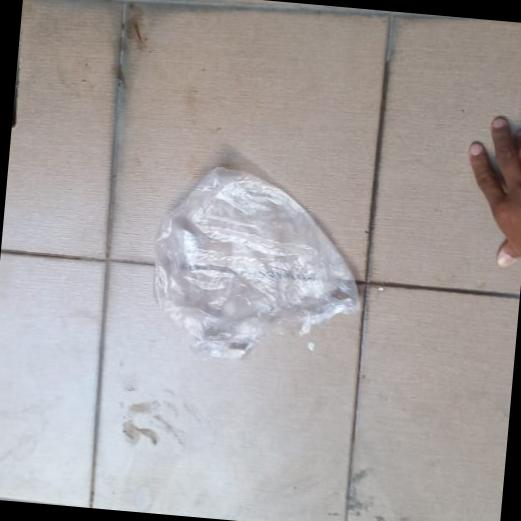Plastik: (144, 160, 372, 372)
